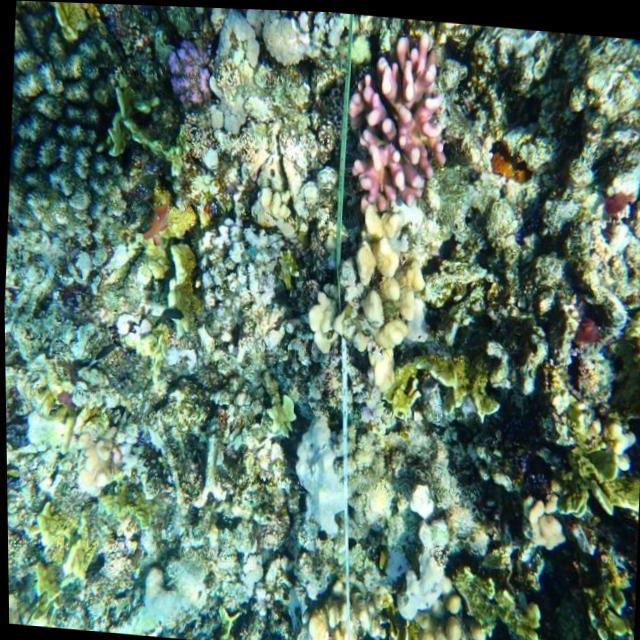Bleached Coral: (192, 199, 301, 363), (274, 396, 379, 548), (69, 548, 220, 640), (394, 471, 459, 632)
Healthy Coral: (334, 13, 456, 207)
